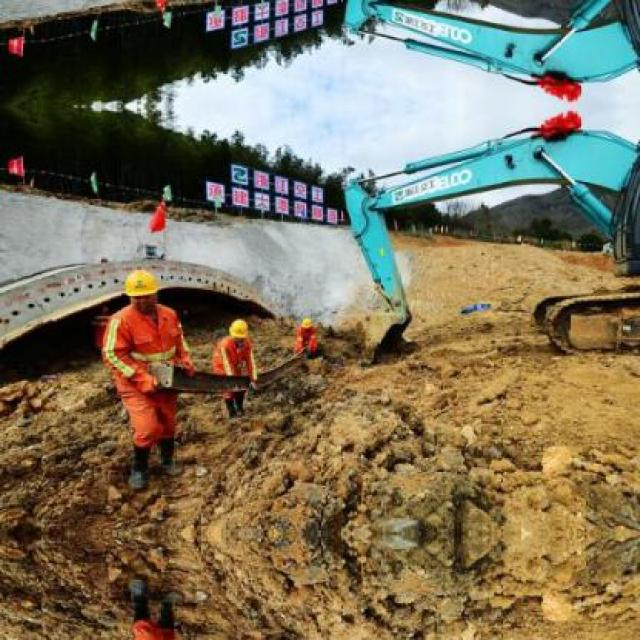helmet: (119, 264, 161, 311), (223, 315, 251, 347), (298, 312, 320, 334)
